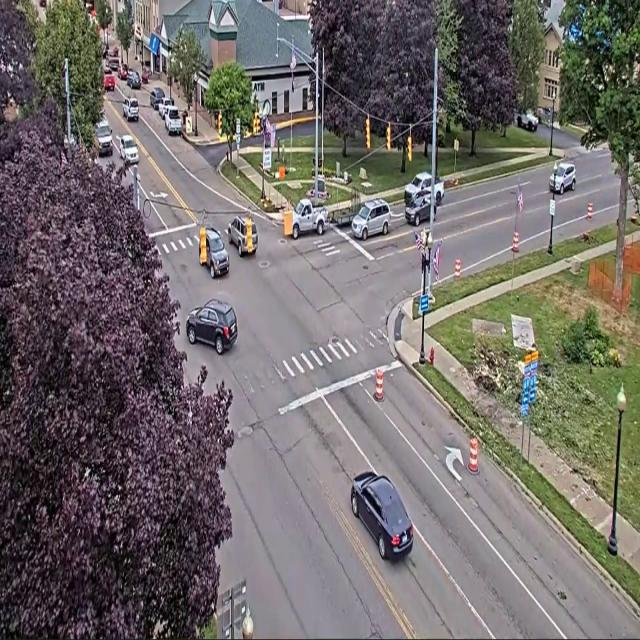car: (351, 472, 413, 559), (186, 300, 237, 355), (352, 200, 390, 240), (228, 216, 257, 256), (206, 228, 229, 278), (404, 172, 431, 204), (549, 162, 575, 194), (405, 193, 431, 225), (96, 121, 112, 156), (120, 135, 138, 164), (164, 106, 181, 135), (516, 112, 538, 131), (123, 96, 139, 121), (158, 96, 174, 119), (150, 88, 164, 110), (127, 70, 141, 89), (104, 67, 115, 91), (108, 57, 119, 73), (118, 64, 128, 80), (141, 68, 150, 84), (108, 47, 119, 58), (39, 0, 47, 7)
traffic signal: (253, 111, 259, 135), (386, 124, 391, 151), (366, 117, 370, 149), (408, 134, 412, 161), (218, 112, 222, 136)
truck: (292, 199, 327, 239), (404, 172, 444, 206)
